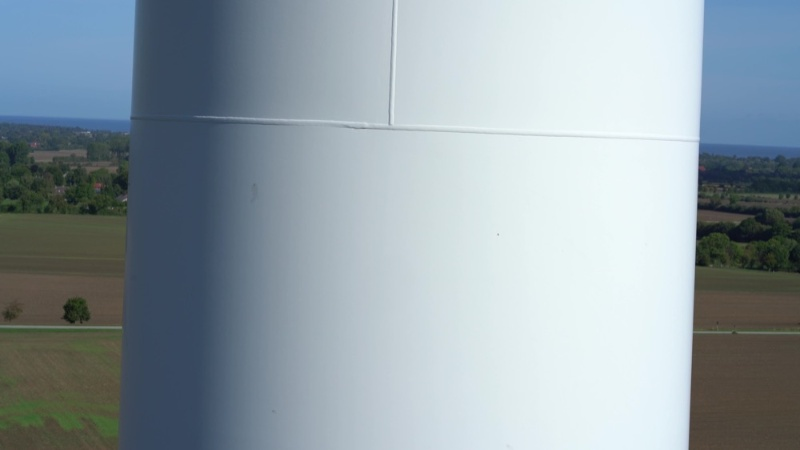weldseam: (129, 107, 703, 146), (385, 1, 404, 140)
